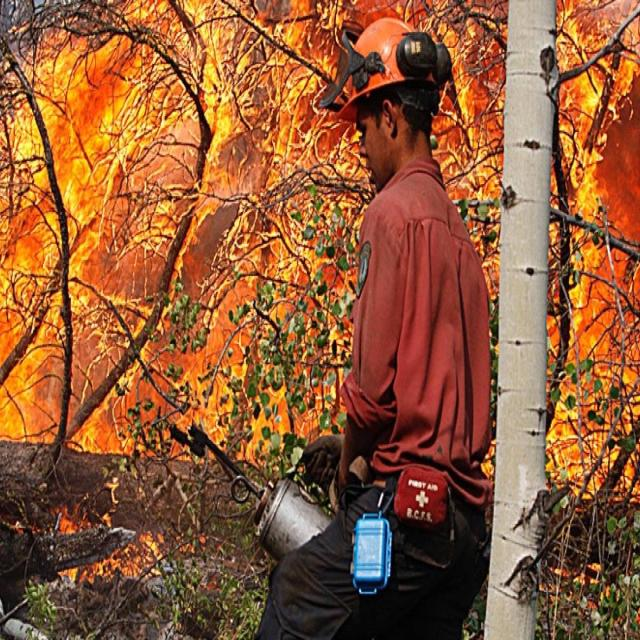Fire: (0, 12, 363, 442), (458, 10, 640, 495), (49, 497, 174, 587)
